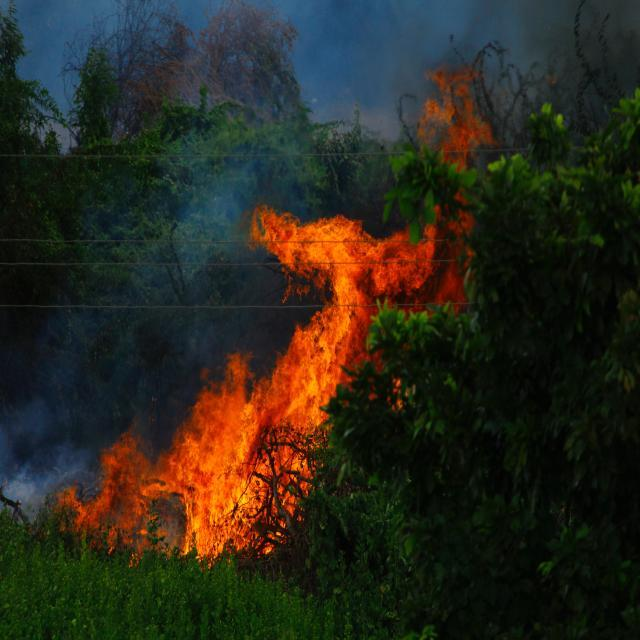Fire: (36, 35, 490, 571)
